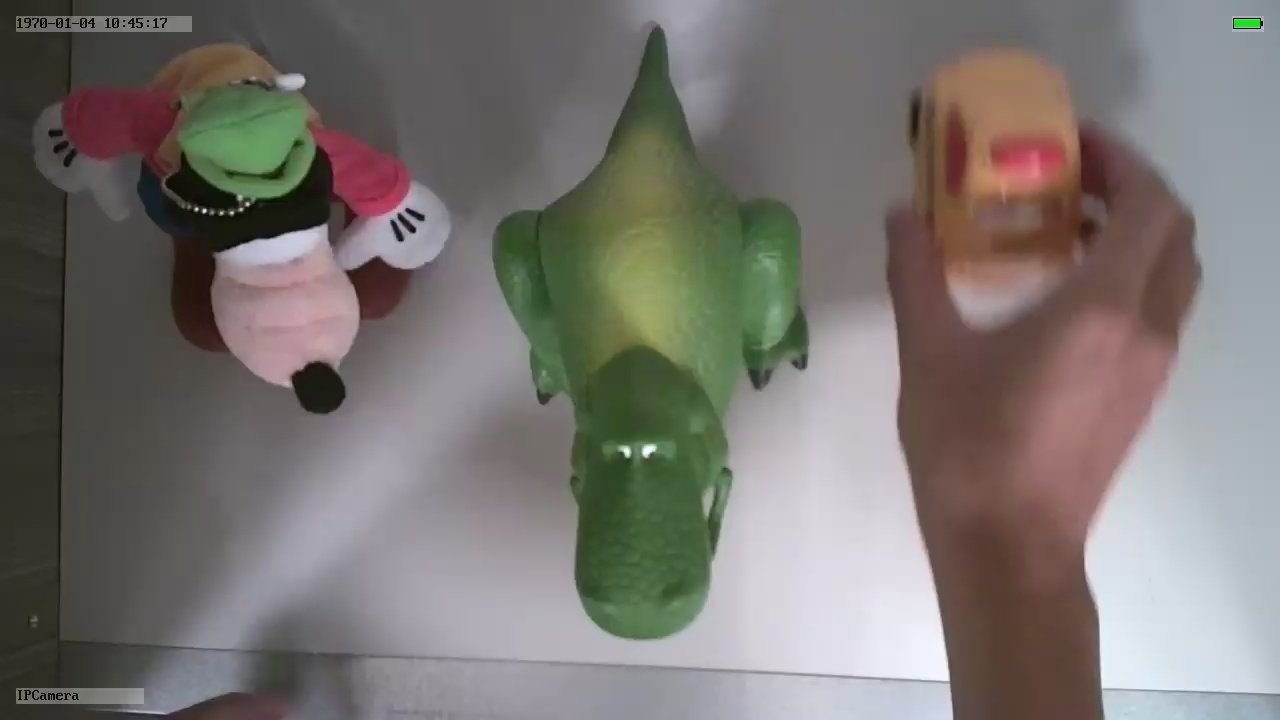goofy: (29, 41, 456, 419)
rex: (492, 112, 817, 642)
